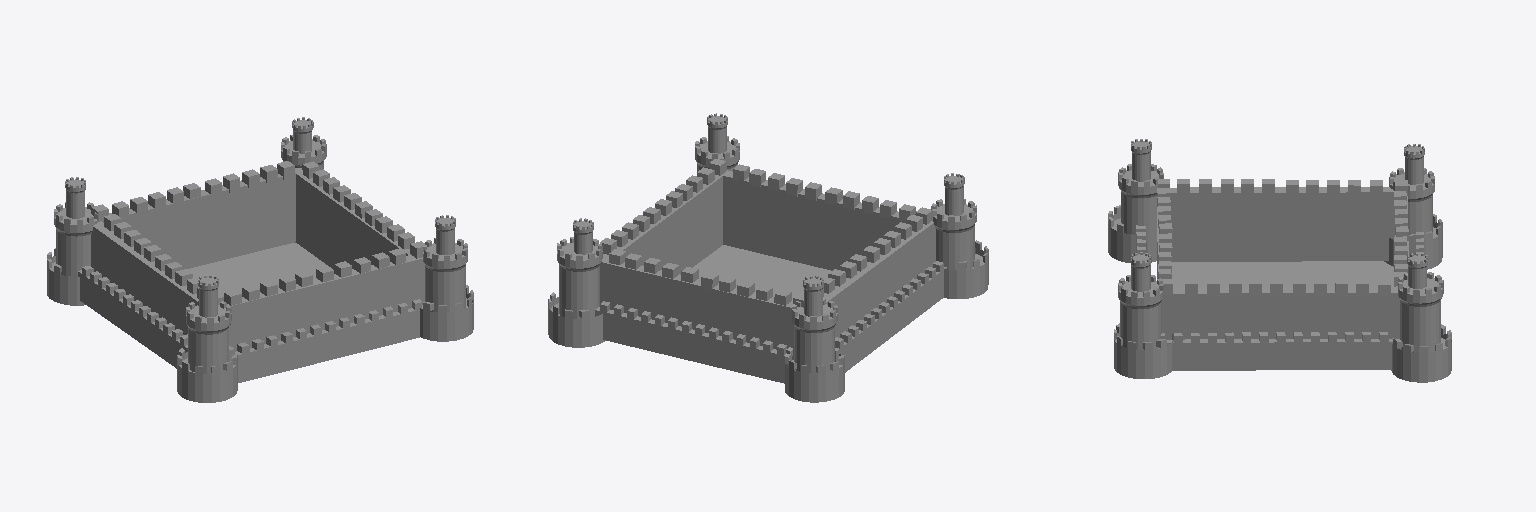
Rendered from Castle.obj.
3 views of the same model, side by side, from view 1: azimuth 30°, elevation 25°; view 2: azimuth 150°, elevation 25°; view 3: azimuth 270°, elevation 25° (orthographic).
Visible parts, largest first — view 1: Cube.003_Cube.006, Cylinder.002_Cylinder.008, Cylinder.010_Cylinder.006, Cylinder.013_Cylinder.014, Cylinder.015_Cylinder.023, Cylinder.016_Cylinder.025, Cylinder.014_Cylinder.010, Cylinder.017_Cylinder.026, Cylinder.009_Cylinder.002, Cylinder.011_Cylinder.013, Cylinder.000_Cylinder.024, Cylinder.008_Cylinder.004 (+1 smaller); view 2: Cube.003_Cube.006, Cylinder.002_Cylinder.008, Cylinder.009_Cylinder.002, Cylinder.016_Cylinder.025, Cylinder.013_Cylinder.014, Cylinder.017_Cylinder.026, Cylinder.012_Cylinder.003, Cylinder.015_Cylinder.023, Cylinder.010_Cylinder.006, Cylinder.011_Cylinder.013, Cylinder.000_Cylinder.024, Cylinder.008_Cylinder.004 (+1 smaller); view 3: Cube.003_Cube.006, Cylinder.002_Cylinder.008, Cylinder.009_Cylinder.002, Cylinder.010_Cylinder.006, Cylinder.012_Cylinder.003, Cylinder.013_Cylinder.014, Cylinder.014_Cylinder.010, Cylinder.016_Cylinder.025, Cylinder.015_Cylinder.023, Cylinder.017_Cylinder.026, Cylinder.011_Cylinder.013, Cylinder.008_Cylinder.004 (+2 smaller).
Boxes of the visible parts, box(x1,y1,x2,y2) form: Cube.003_Cube.006: box(91, 168, 424, 351); Cylinder.002_Cylinder.008: box(78, 266, 422, 382); Cylinder.010_Cylinder.006: box(423, 238, 467, 312); Cylinder.013_Cylinder.014: box(186, 300, 231, 373); Cylinder.015_Cylinder.023: box(177, 348, 237, 402); Cylinder.016_Cylinder.025: box(54, 202, 98, 276); Cylinder.014_Cylinder.010: box(420, 285, 473, 341); Cylinder.017_Cylinder.026: box(47, 248, 84, 305); Cylinder.009_Cylinder.002: box(281, 135, 326, 169); Cylinder.011_Cylinder.013: box(198, 275, 218, 317); Cylinder.000_Cylinder.024: box(65, 177, 85, 218); Cylinder.008_Cylinder.004: box(435, 215, 455, 254); Cube.003_Cube.006: box(600, 170, 935, 359); Cylinder.002_Cylinder.008: box(595, 261, 946, 383); Cylinder.009_Cylinder.002: box(557, 237, 602, 318); Cylinder.016_Cylinder.025: box(792, 298, 837, 373); Cylinder.013_Cylinder.014: box(931, 199, 976, 269); Cylinder.017_Cylinder.026: box(785, 347, 844, 402); Cylinder.012_Cylinder.003: box(548, 292, 605, 347); Cylinder.015_Cylinder.023: box(944, 240, 988, 298); Cylinder.010_Cylinder.006: box(695, 136, 739, 171); Cylinder.011_Cylinder.013: box(944, 173, 964, 215); Cylinder.000_Cylinder.024: box(803, 275, 823, 316); Cylinder.008_Cylinder.004: box(707, 113, 727, 153); Cube.003_Cube.006: box(1157, 187, 1408, 339); Cylinder.002_Cylinder.008: box(1136, 225, 1423, 370); Cylinder.009_Cylinder.002: box(1398, 272, 1443, 353); Cylinder.010_Cylinder.006: box(1118, 275, 1163, 349); Cylinder.012_Cylinder.003: box(1391, 324, 1451, 382); Cylinder.013_Cylinder.014: box(1118, 164, 1163, 234); Cylinder.014_Cylinder.010: box(1114, 323, 1173, 378); Cylinder.016_Cylinder.025: box(1389, 168, 1434, 240); Cylinder.015_Cylinder.023: box(1108, 205, 1156, 262); Cylinder.017_Cylinder.026: box(1384, 214, 1442, 269); Cylinder.011_Cylinder.013: box(1131, 139, 1151, 181); Cylinder.008_Cylinder.004: box(1130, 252, 1151, 291).
Size of the model in its own units: 36.16 by 13.74 by 36.95.